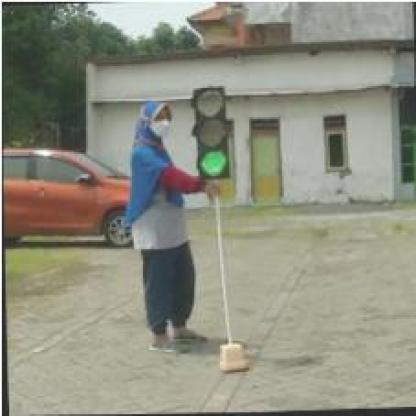green: (192, 86, 226, 178)
